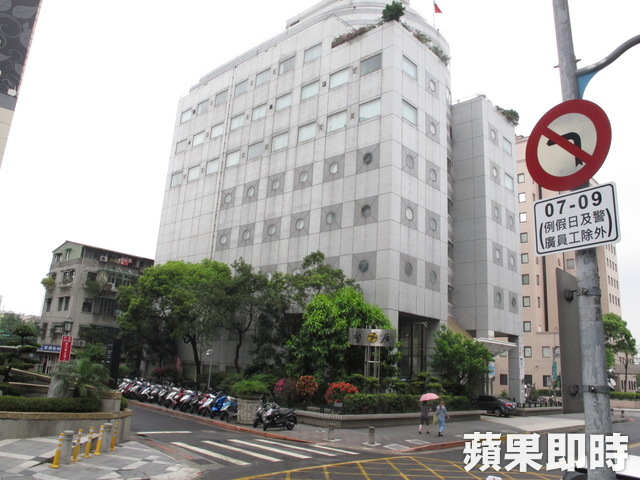No_left_turn: (524, 97, 612, 191)
